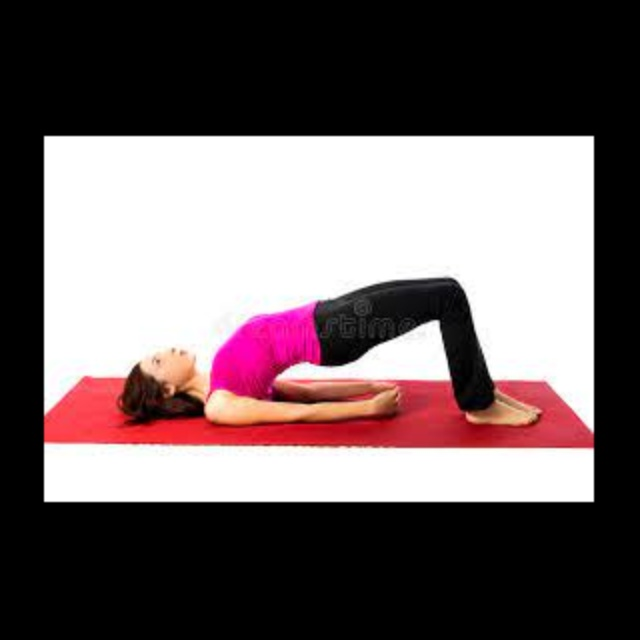Bridge_Pose: (114, 273, 549, 433)
